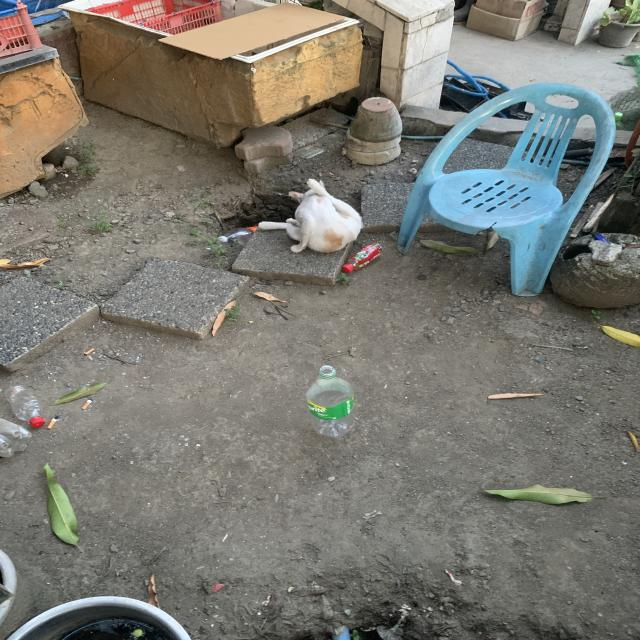Bottle: (306, 365, 356, 438)
